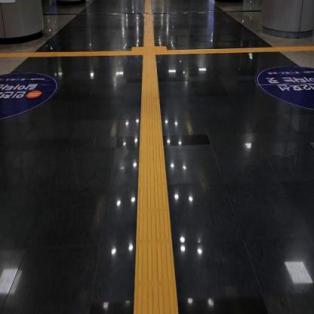Podoctatil: (134, 56, 181, 313), (121, 34, 176, 72), (168, 44, 313, 56), (0, 50, 131, 59), (142, 0, 155, 45)
